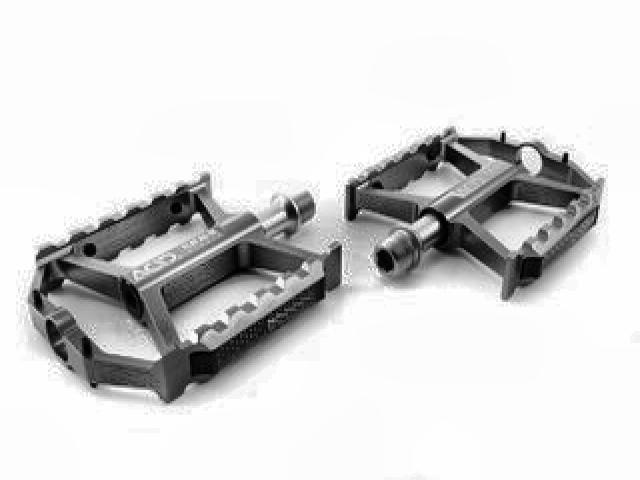pedal: (28, 165, 346, 404), (344, 122, 604, 302)
